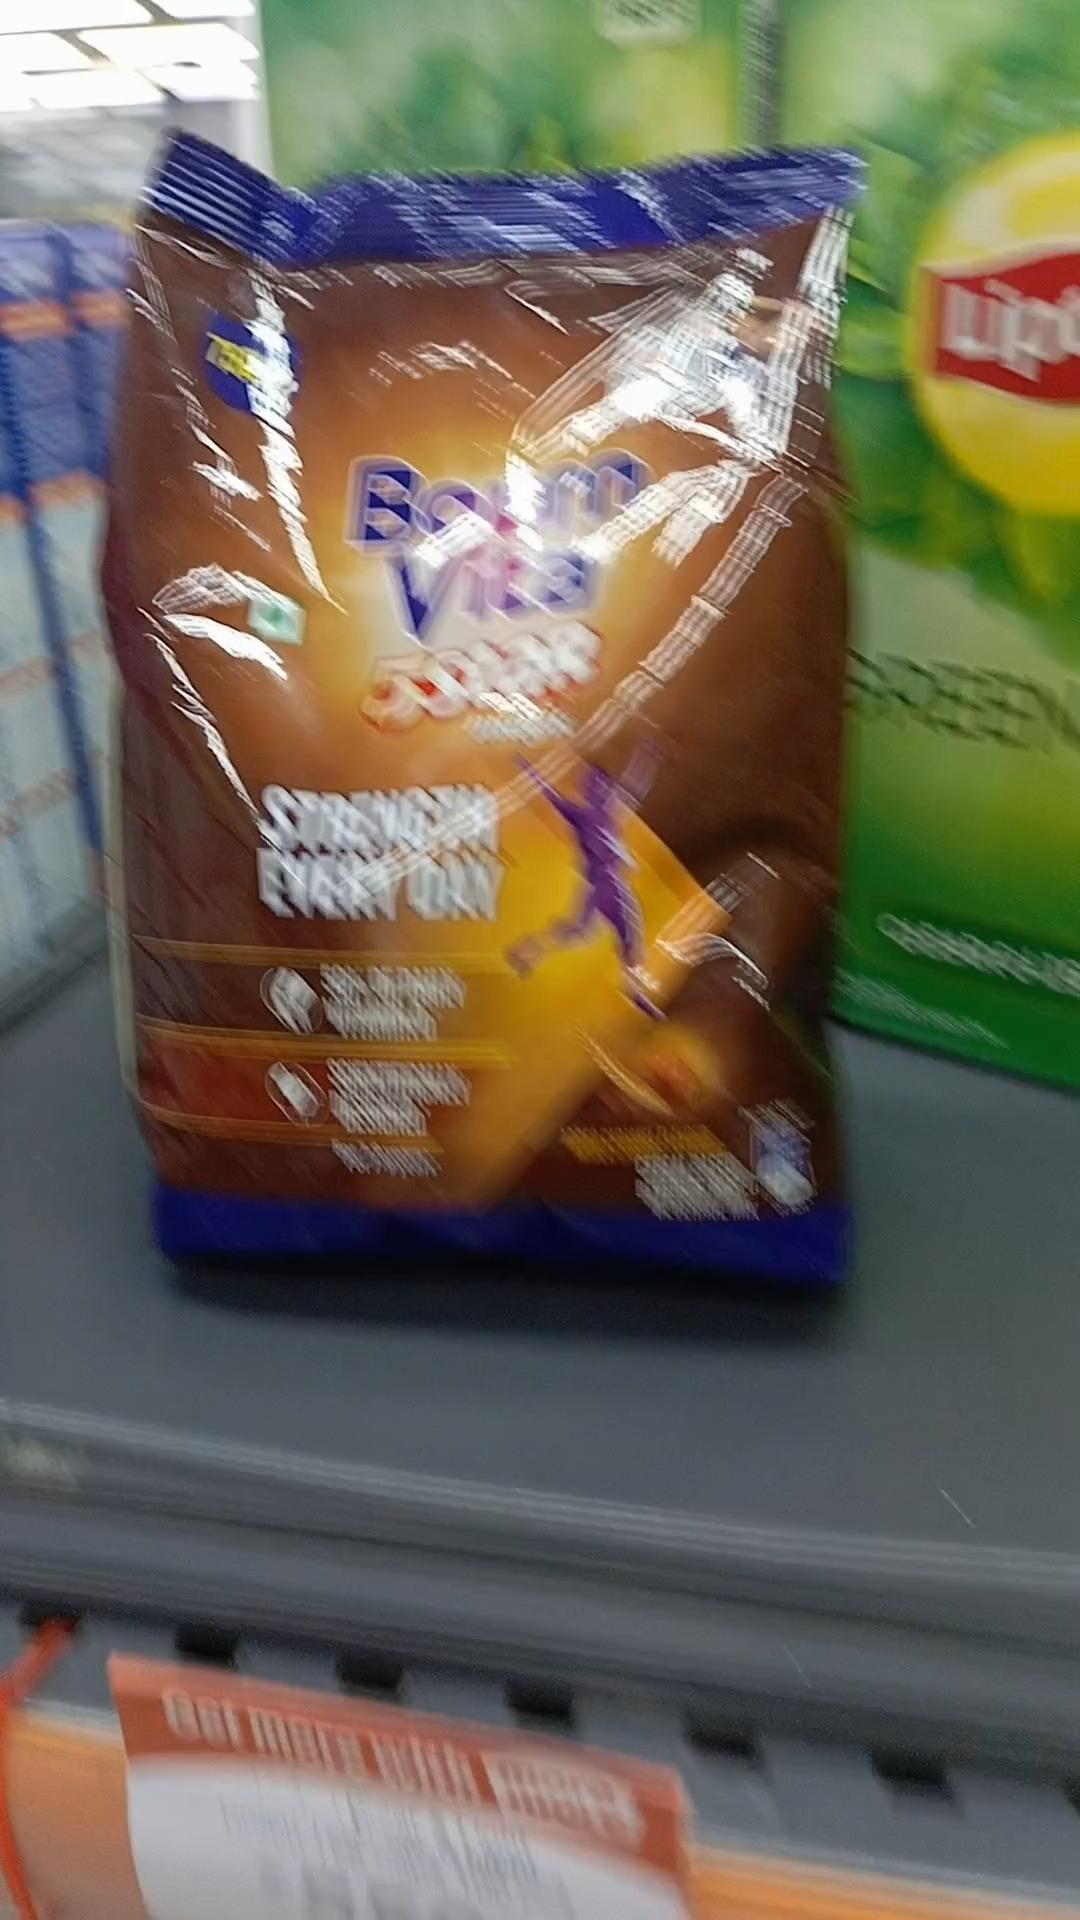BOURN_VITA_FIVE_STAR_MAGIC_750_G_POUCH: (109, 109, 847, 1292)
